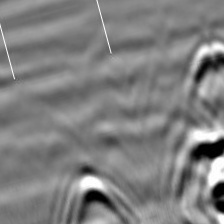Utility: (172, 40, 224, 224), (49, 161, 143, 224)
